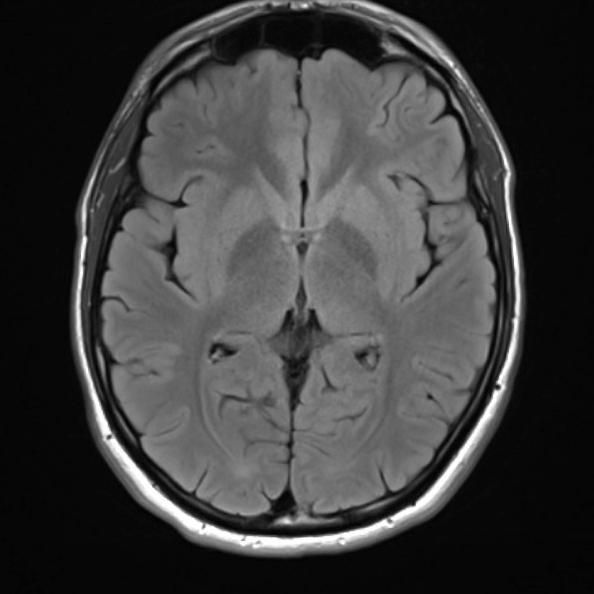Normal_Brain: (1, 1, 594, 594)
